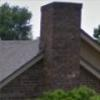chimneys: (40, 2, 82, 90)
